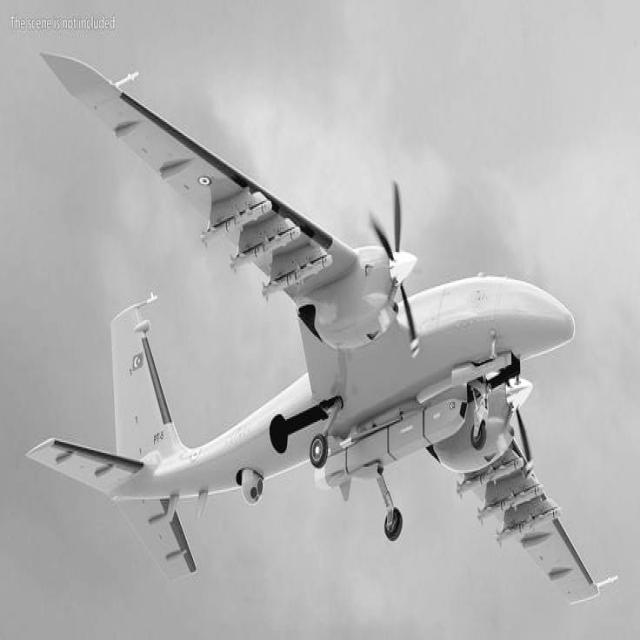iha: (2, 19, 615, 600)
